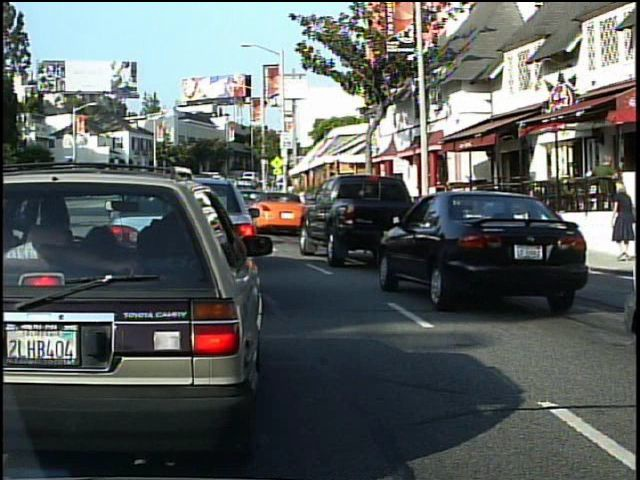person: (588, 149, 623, 232), (608, 179, 638, 262)
